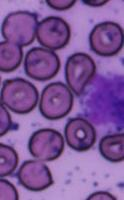D: (80, 69, 124, 131)
